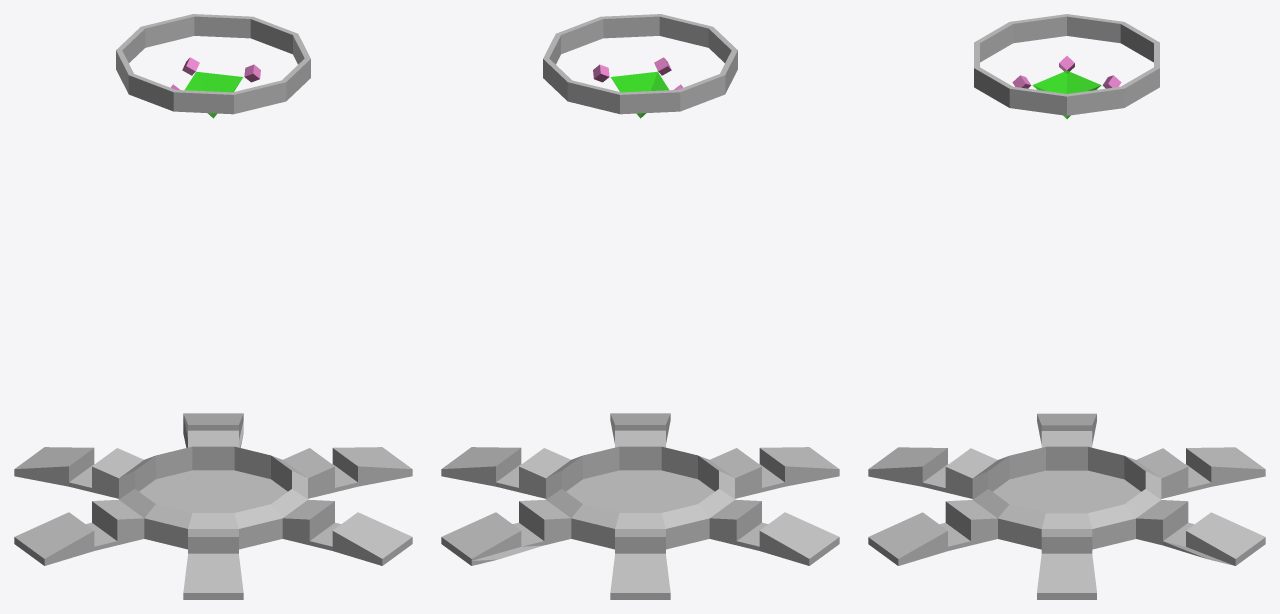
Rendered from teleport.fbx.
3 renders of one model, left to right at view 1: azimuth 30°, elevation 25°; view 2: azimuth 150°, elevation 25°; view 3: azimuth 270°, elevation 25°, orthographic.
Visible parts, largest first — view 1: pCylinder1, polySurface1, pPyramid1; view 2: pCylinder1, polySurface1, pPyramid1; view 3: pCylinder1, polySurface1, pPyramid1.
Part boxes in pixels (x1,y1,x2,y2): pCylinder1: [14, 413, 412, 599]; polySurface1: [116, 14, 310, 114]; pPyramid1: [184, 71, 243, 118]; pCylinder1: [441, 413, 839, 599]; polySurface1: [543, 14, 737, 114]; pPyramid1: [610, 71, 669, 118]; pCylinder1: [868, 413, 1265, 599]; polySurface1: [974, 14, 1159, 115]; pPyramid1: [1032, 70, 1101, 118].
Size of the model in its own units: 4.34 by 5.14 by 4.07.
